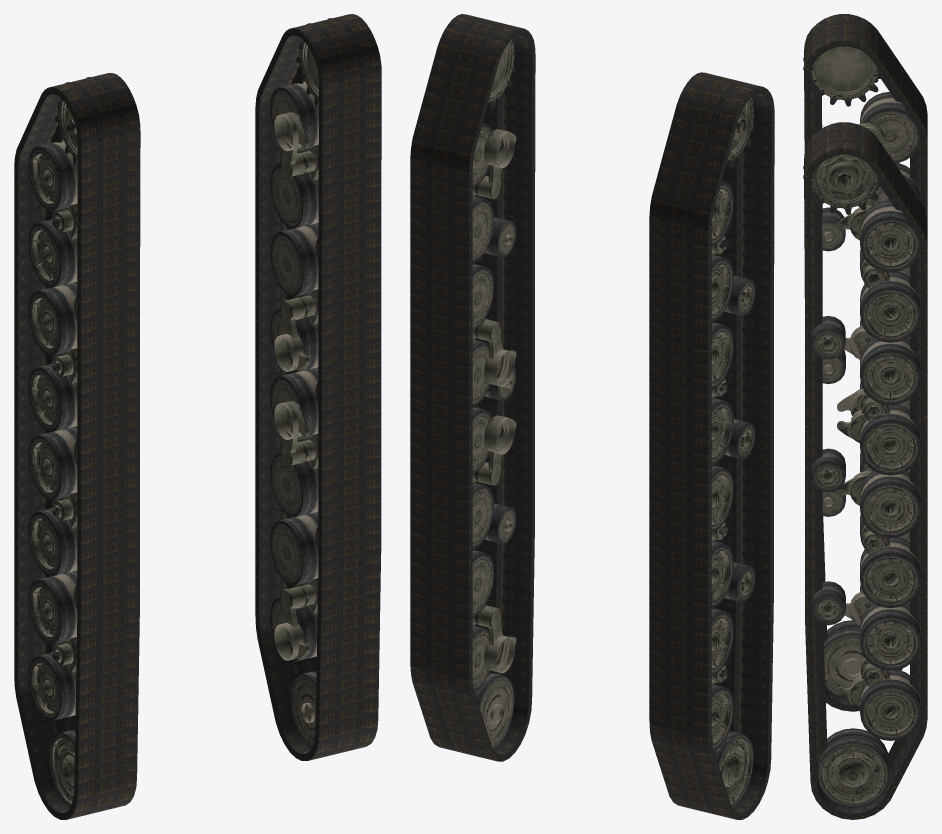
File: Chassis.glb
3 views of the same model, side by side, from view 1: azimuth 30°, elevation 25°; view 2: azimuth 150°, elevation 25°; view 3: azimuth 270°, elevation 25° (orthographic). The views are drawn at different scales.
Parts seen in each view (by area): view 1: set_1_group_0, set_0_group_0, set_3_group_0, set_2_group_0; view 2: set_0_group_0, set_1_group_0, set_3_group_0, set_2_group_0; view 3: set_3_group_0, set_1_group_0, set_2_group_0, set_0_group_0.
Boxes of the visible parts, x1,y1,x2,y2 form: set_1_group_0: (255,14,381,760); set_0_group_0: (14,73,140,819); set_3_group_0: (270,18,364,748); set_2_group_0: (28,77,123,807); set_0_group_0: (649,72,774,819); set_1_group_0: (410,14,535,761); set_3_group_0: (454,17,516,748); set_2_group_0: (693,76,755,807); set_3_group_0: (803,130,920,807); set_1_group_0: (804,122,927,819); set_2_group_0: (803,21,920,696); set_0_group_0: (804,14,927,711).
Size of the model in its own units: 3.05 by 7.08 by 1.19.
4 materials, 4 textured.
